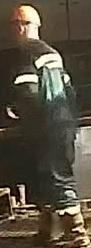helmet: (9, 4, 43, 28)
vest: (8, 39, 73, 138)
